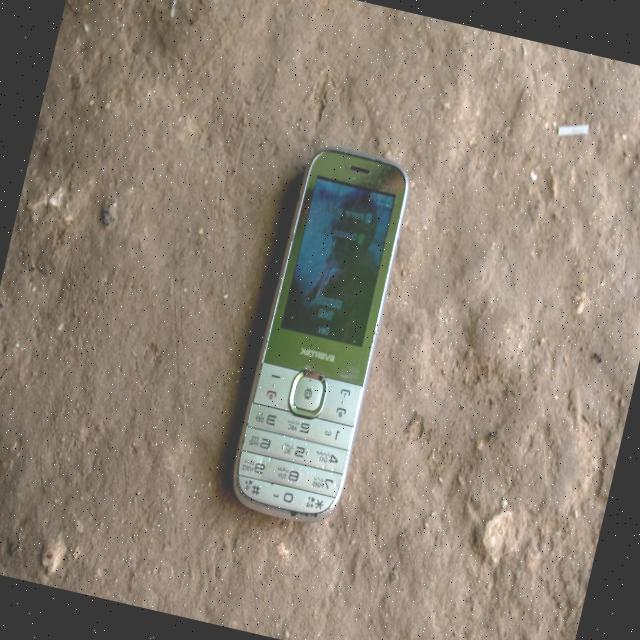Phone: (218, 134, 421, 536)
